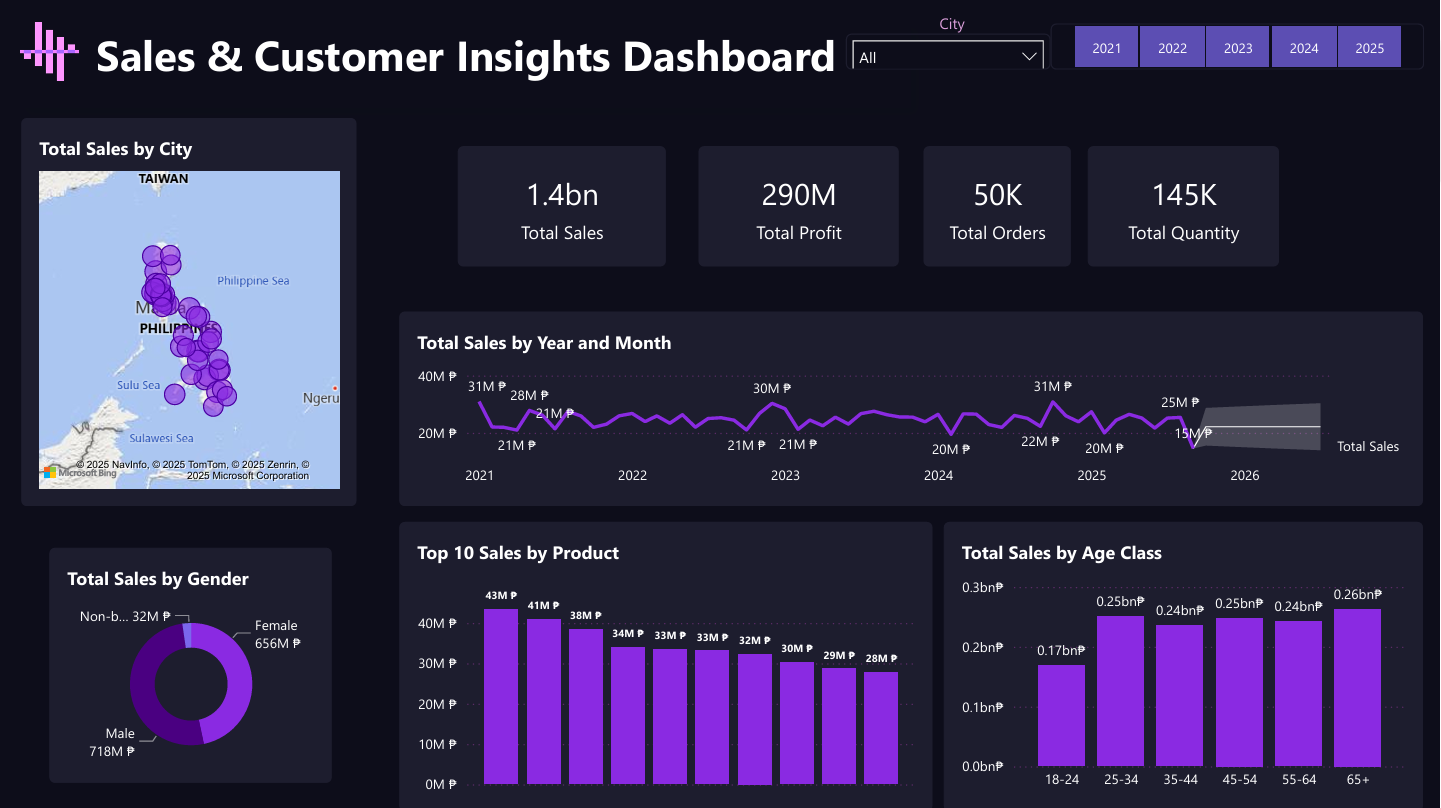

What the dashboard file says about the page in this screenshot:
{"tool":"powerbi","page":{"name":"Page 1","canvas":[1280,720],"ordinal":0},"visuals":[{"type":"card","fields":{"Values":["SalesFact.Total Sales"]},"box":[406.2,128.8,185,107.5],"z":0},{"type":"card","fields":{"Values":["SalesFact.Total Profit"]},"box":[620,128.8,177.5,107.5],"z":1000},{"type":"textbox","box":[17.5,20,791.2,75],"z":2000},{"type":"card","fields":{"Values":["SalesFact.Total Orders"]},"box":[820,128.8,131.2,107.5],"z":3000},{"type":"card","fields":{"Values":["SalesFact.Total Quantity"]},"box":[966.2,128.8,170,107.5],"z":4000},{"type":"lineChart","fields":{"Category":["SalesFact.OrderDate.Variation.Date Hierarchy.Year","SalesFact.OrderDate.Variation.Date Hierarchy.Month"],"Y":["SalesFact.Total Sales"]},"box":[353.8,276.2,910,172.5],"z":5000},{"type":"clusteredColumnChart","title":"Top 10 Sales by Product","fields":{"Category":["SalesFact.ProductName"],"Y":["SalesFact.Total Sales"]},"box":[353.8,462.5,473.8,257.5],"z":6000},{"type":"map","fields":{"Category":["SalesFact.City"],"Size":["SalesFact.Total Sales"]},"box":[17.5,103.8,298.8,345],"z":7000},{"type":"donutChart","fields":{"Category":["SalesFact.Gender"],"Y":["SalesFact.Total Sales"]},"box":[42.5,486.2,251.2,208.8],"z":8000},{"type":"columnChart","title":"Total Sales by Age Class","fields":{"Category":["SalesFact.AgeBracket"],"Y":["SalesFact.Total Sales"]},"box":[837.5,462.5,426.2,257.5],"z":9000},{"type":"slicer","fields":{"Values":["Cities.City"]},"box":[751.2,28.8,181.2,32.5],"z":10000},{"type":"textbox","box":[758.9,11.1,173.3,17.8],"z":11000},{"type":"slicer","fields":{"Values":["SalesFact.Year"]},"box":[932.5,20,332.5,41.2],"z":11001},{"type":"image","box":[1.2,3.8,82.5,82.5],"z":11002}]}

Visuals, with their boxes in screenshot pixels (x1, y1, x2, y2), scaled from the page's 1280x720 canvas onto the 1441x808 screenshot:
card - SalesFact.Total Sales: select_region(457, 145, 666, 265)
card - SalesFact.Total Profit: select_region(698, 145, 898, 265)
textbox: select_region(20, 22, 910, 107)
card - SalesFact.Total Orders: select_region(923, 145, 1071, 265)
card - SalesFact.Total Quantity: select_region(1088, 145, 1279, 265)
lineChart - SalesFact.OrderDate.Variation.Date Hierarchy.Year x SalesFact.OrderDate.Variation.Date Hierarchy.Month: select_region(398, 310, 1423, 504)
"Top 10 Sales by Product" clusteredColumnChart: select_region(398, 519, 932, 807)
map - SalesFact.City x SalesFact.Total Sales: select_region(20, 116, 356, 504)
donutChart - SalesFact.Gender x SalesFact.Total Sales: select_region(48, 546, 331, 780)
"Total Sales by Age Class" columnChart: select_region(943, 519, 1423, 807)
slicer - Cities.City: select_region(846, 32, 1050, 69)
textbox: select_region(854, 12, 1049, 32)
slicer - SalesFact.Year: select_region(1050, 22, 1424, 69)
image: select_region(1, 4, 94, 97)
